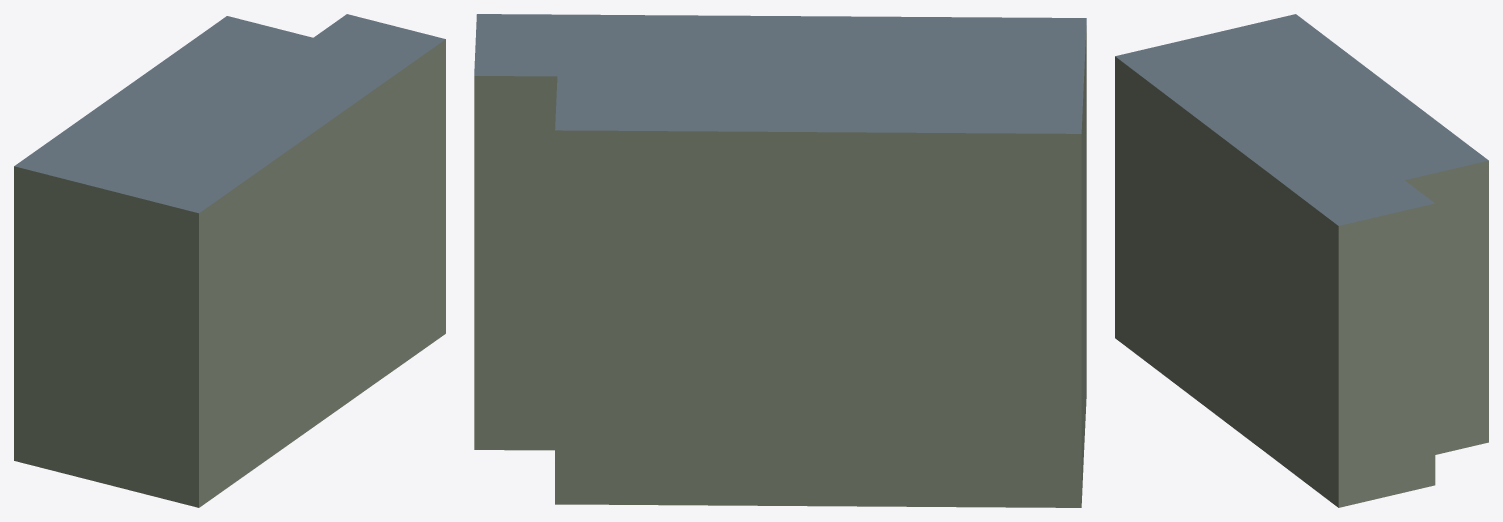
Rendered from nyc-1080737-0.glb.
3 renders of one model, left to right at view 1: azimuth 30°, elevation 25°; view 2: azimuth 150°, elevation 25°; view 3: azimuth 270°, elevation 25°, orthographic. The views are drawn at different scales.
Parts seen in each view (by area): view 1: nyc-1080737-0; view 2: nyc-1080737-0; view 3: nyc-1080737-0.
Part boxes in pixels (box(x1,y1,x2,y2)): nyc-1080737-0: box(14, 14, 445, 507); nyc-1080737-0: box(474, 14, 1086, 507); nyc-1080737-0: box(1115, 14, 1488, 507).
Size of the model in its own units: 33.03 by 20.48 by 24.62.
